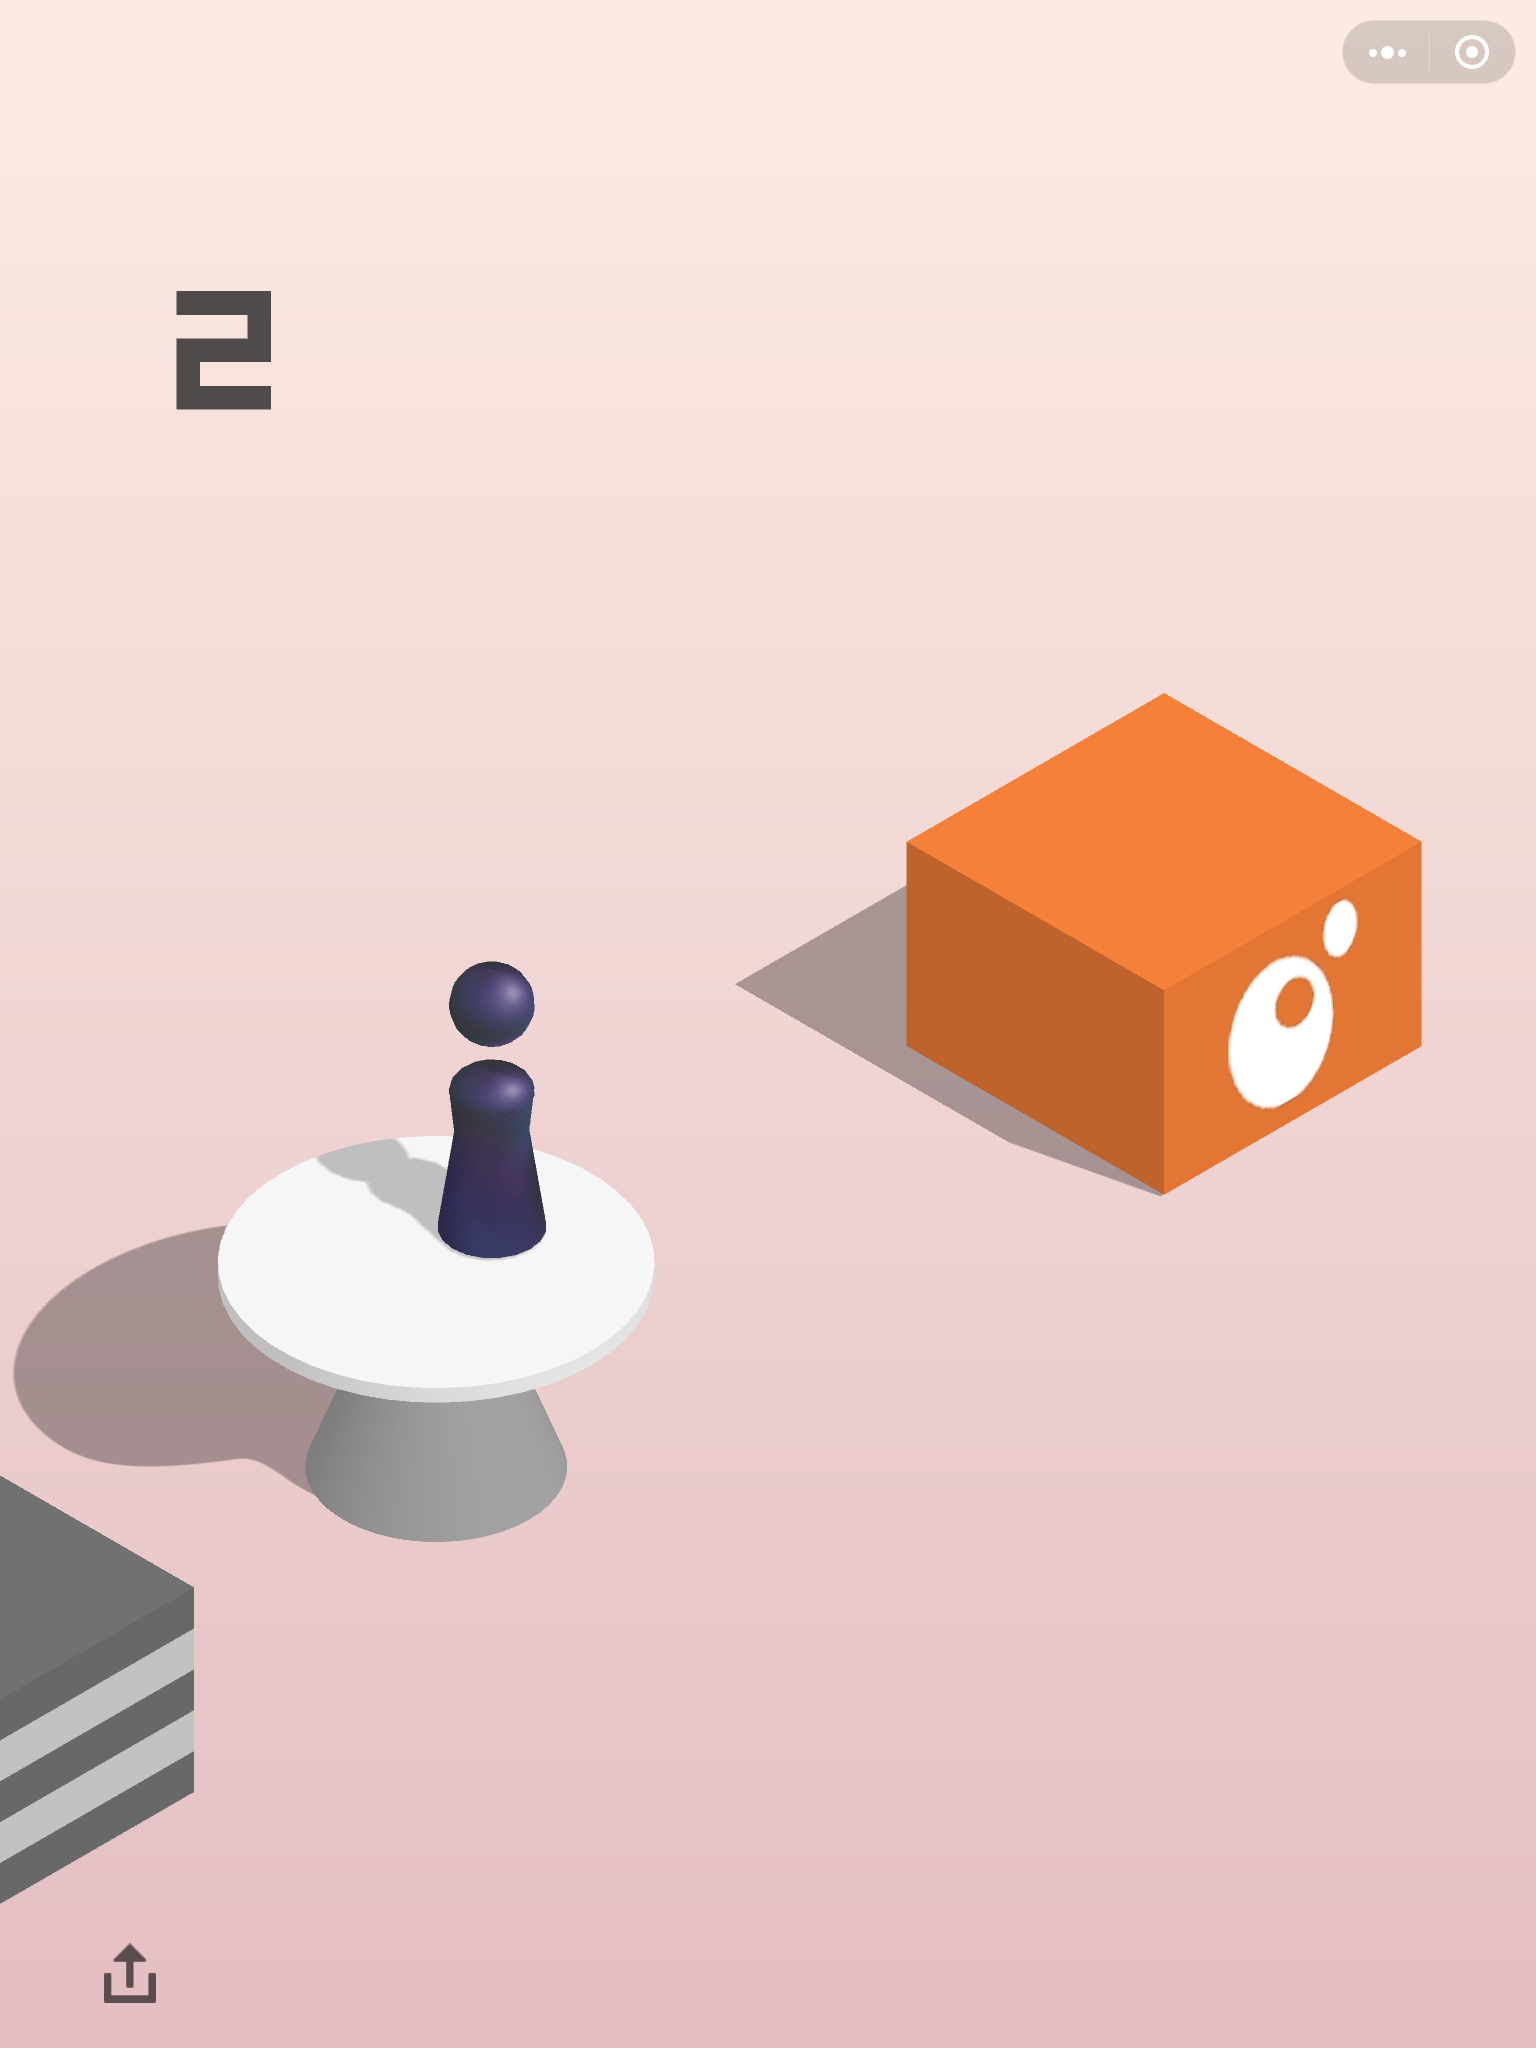c: (211, 1124, 662, 1548)
f: (902, 693, 1428, 1200), (2, 1467, 198, 1896)
r: (431, 951, 549, 1264)
